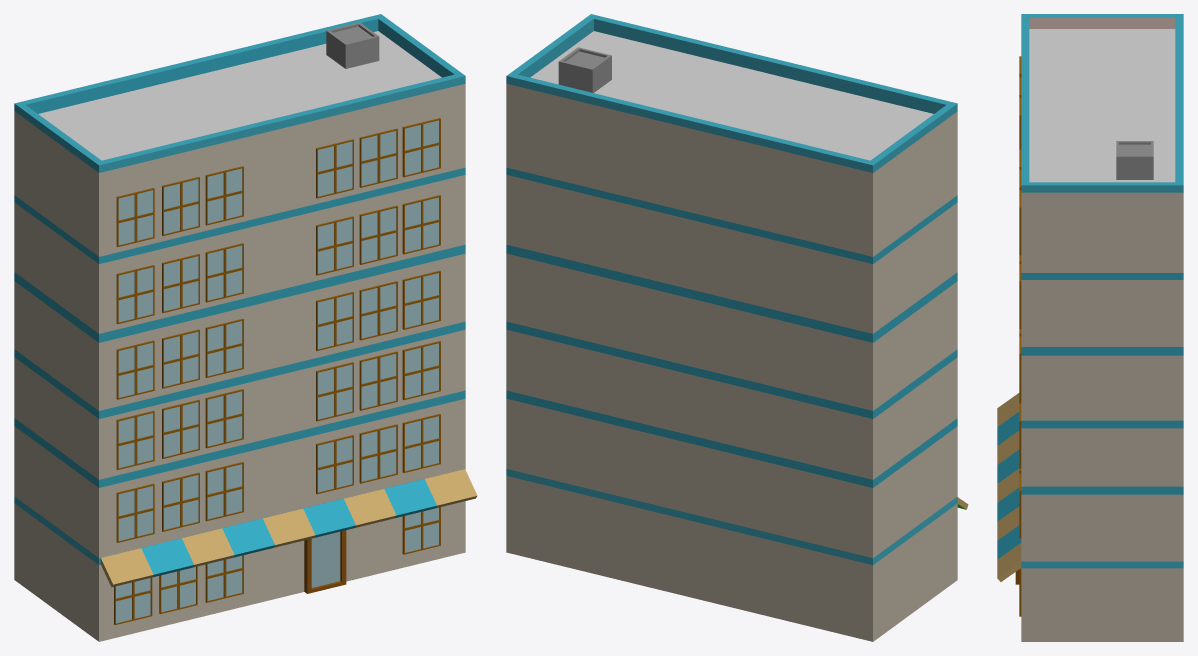
The model's file is Store_5.fbx.
The picture shows the model from 3 angles, left to right: view 1: azimuth 30°, elevation 25°; view 2: azimuth 150°, elevation 25°; view 3: azimuth 270°, elevation 25°; orthographic projection. The views are drawn at different scales.
Visible parts, largest first — view 1: Cube; view 2: Cube; view 3: Cube.
Part boxes in pixels (x1,y1,x2,y2): Cube: (14,14,477,641); Cube: (506,14,968,641); Cube: (997,14,1183,641).
Bounding box in the file's own units: 20 × 25.46 × 9.17.
